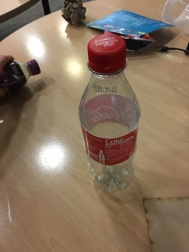bottle_red: (70, 32, 148, 202)
paper_brown: (57, 1, 90, 26)
